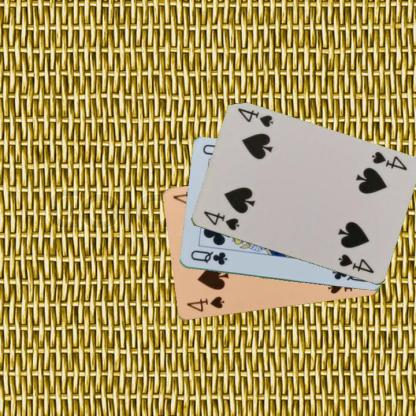4s: (200, 208, 240, 232), (369, 149, 408, 172), (184, 294, 225, 314)
Qc: (188, 248, 229, 266)
